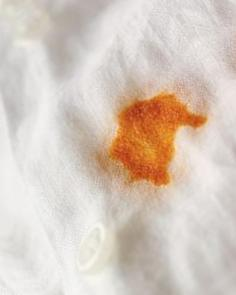stain: (97, 91, 211, 191)
